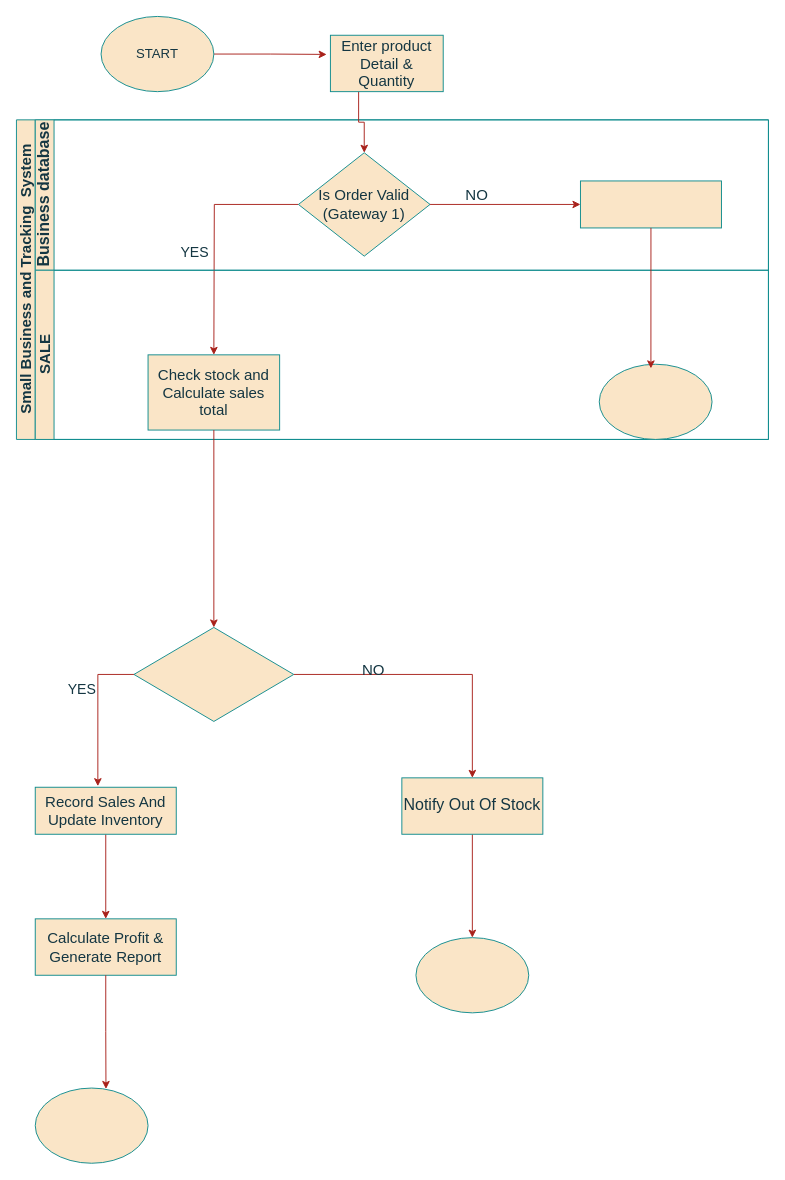
Image size: 785x1180. Some labels were removed from this diagram. Each missing label, with the centre of its shape:
"Error End" goes at point 655,401.
"Is Stock Available (Gateway 2)" goes at point 213,674.
"Out Of Stock" goes at point 472,975.
"Show Error Message" goes at point 650,204.
"Success End" goes at point 91,1125.
